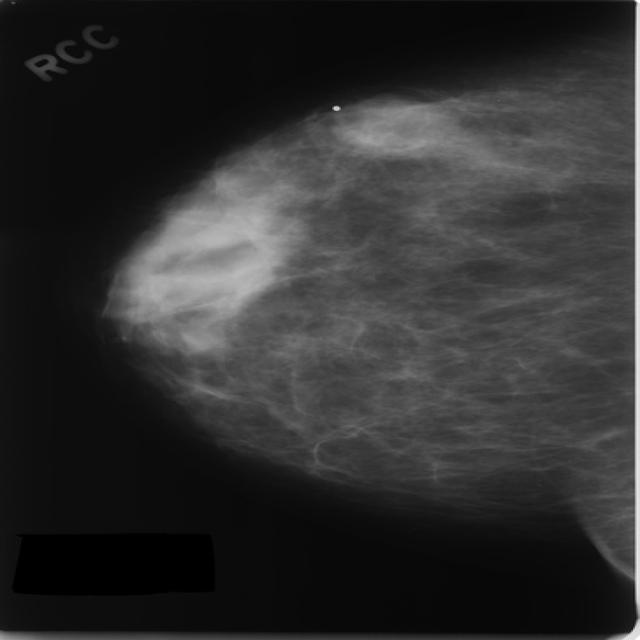tumour: (331, 96, 443, 150)
